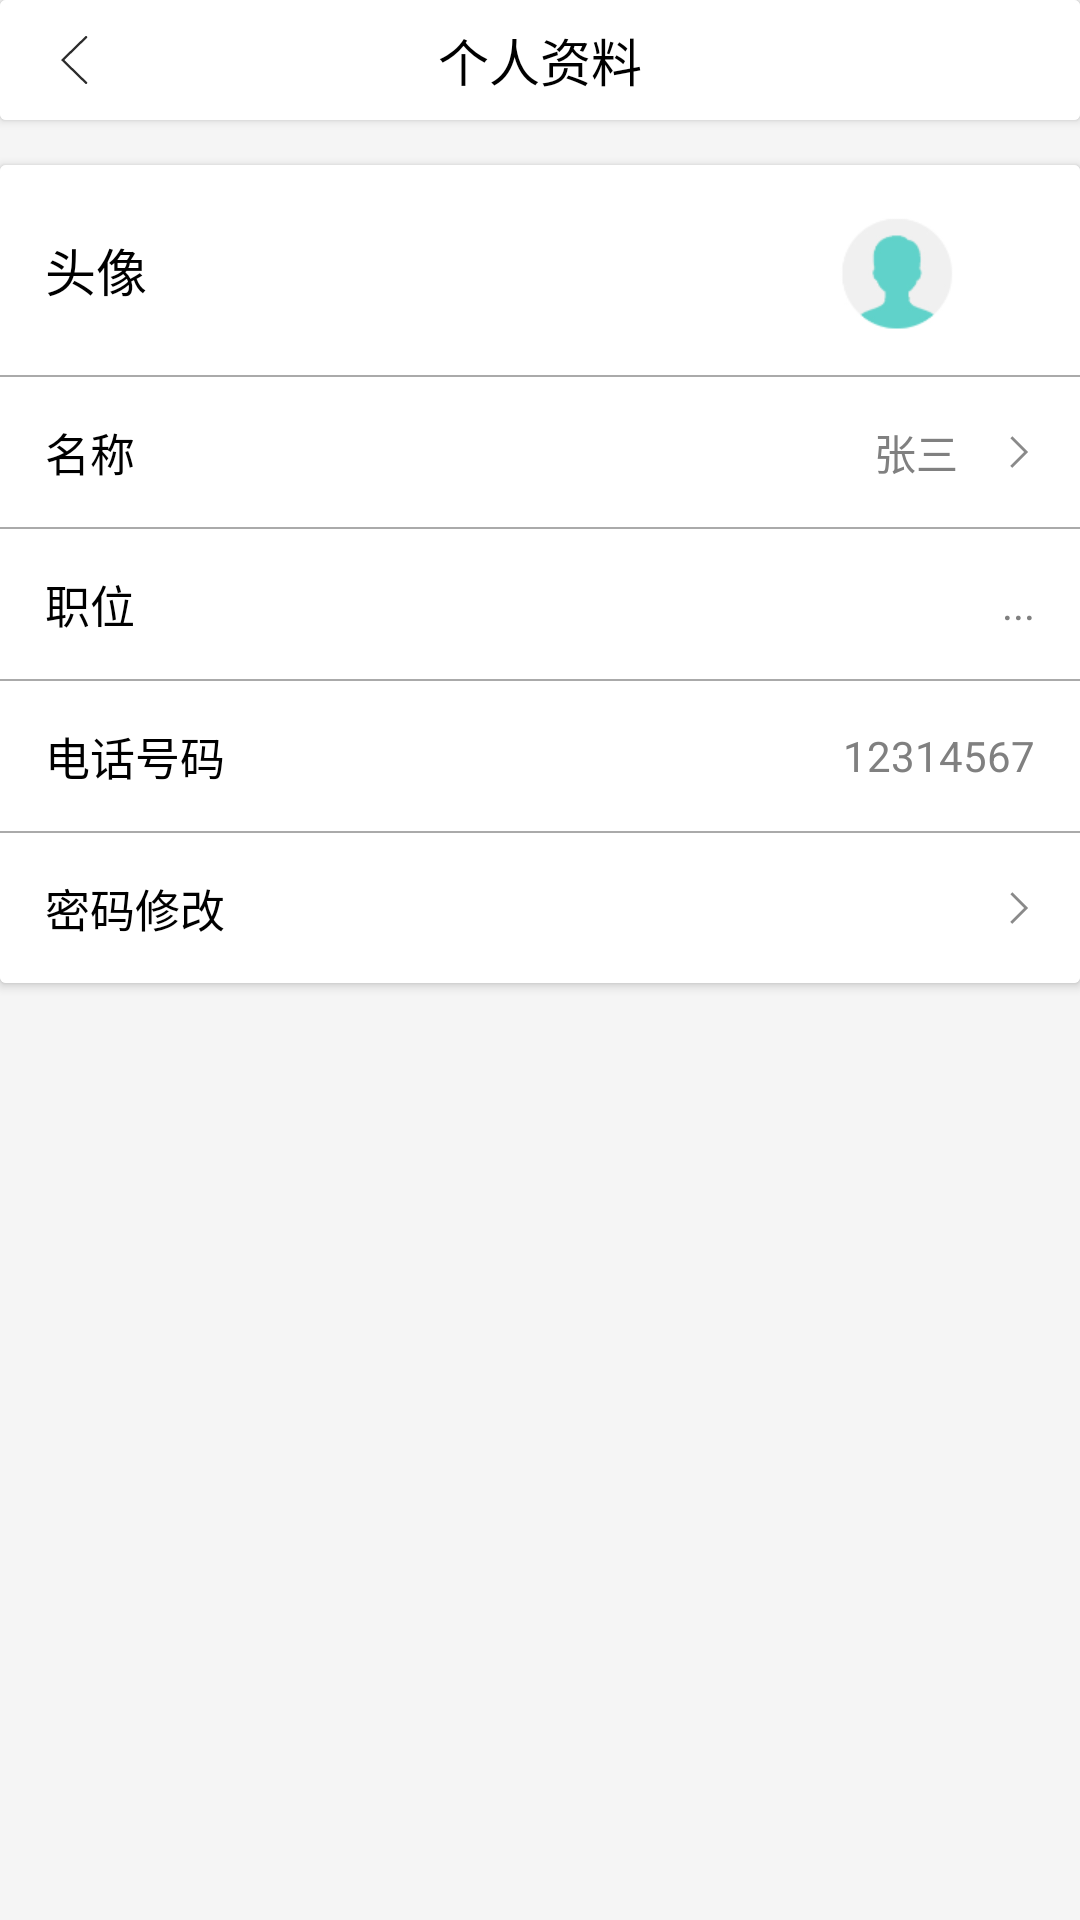

Where to tap for icons on this 1080x1920 app screen, as point (x, y):
right: point (1019, 452), point (1019, 908)
user: point (897, 282)
